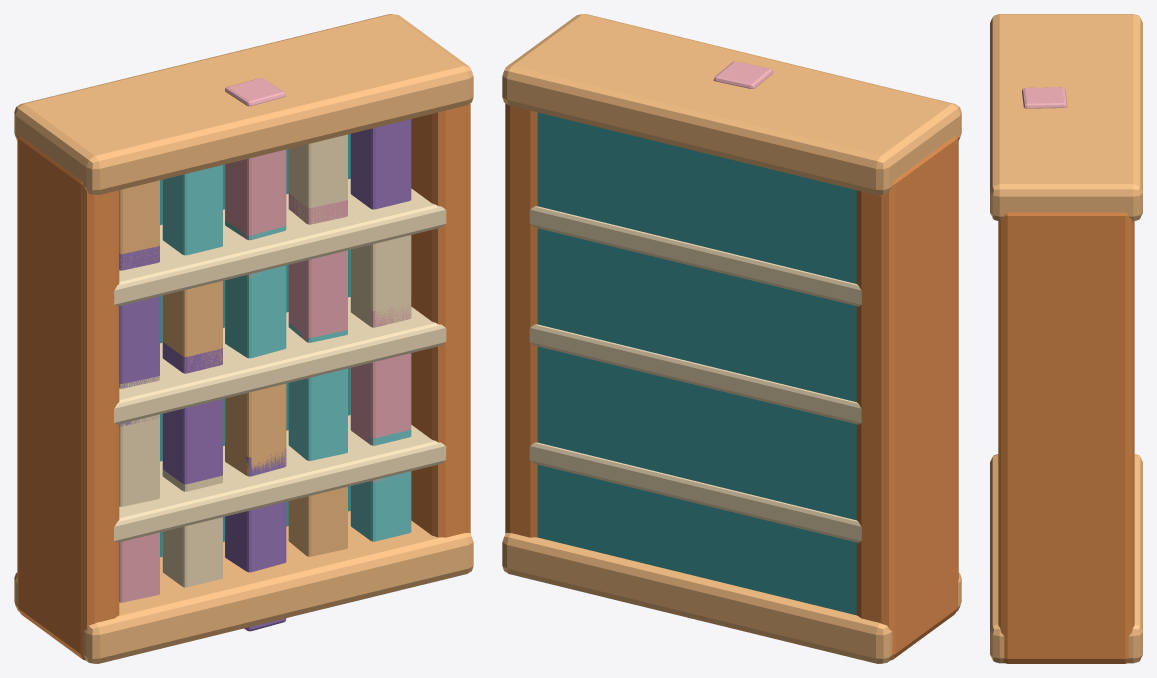
Rendered from TallBookshelf.fbx.
3 views of the same model, side by side, from view 1: azimuth 30°, elevation 25°; view 2: azimuth 150°, elevation 25°; view 3: azimuth 270°, elevation 25° (orthographic). The views are drawn at different scales.
Visible parts, largest first — view 1: Shelf_Left, Shelf_Top, Shelf_Right, Shelf_Base, Shelf_Board.001, Shelf_Board.002, Shelf_Board, Book.017, Book.013, Book.006, Book.012, Book.009 (+16 smaller); view 2: Shelf_Back, Shelf_Left, Shelf_Top, Shelf_Base, Shelf_Right, Shelf_Board, Shelf_Board.001, Shelf_Board.002, Book.017; view 3: Shelf_Right, Shelf_Top, Shelf_Base, Book.017.
Part boxes in pixels (x1,y1,x2,y2): Shelf_Left: (17,135,119,660); Shelf_Top: (14,14,473,195); Shelf_Right: (411,103,470,537); Shelf_Base: (14,511,473,663); Shelf_Board.001: (114,297,446,424); Shelf_Board.002: (114,179,446,306); Shelf_Board: (114,415,446,542); Book.017: (225,78,286,277); Book.013: (288,193,347,380); Book.006: (162,342,222,491); Book.012: (225,220,286,358); Book.009: (350,297,411,483); Shelf_Back: (537,112,856,615); Shelf_Left: (856,135,958,660); Shelf_Top: (502,14,961,195); Shelf_Base: (502,532,961,663); Shelf_Right: (505,103,537,537); Shelf_Board: (529,442,861,542); Shelf_Board.001: (529,324,861,424); Shelf_Board.002: (529,206,861,306); Book.017: (713,61,773,88); Shelf_Right: (998,212,1134,663); Shelf_Top: (990,14,1142,221); Shelf_Base: (990,454,1142,663); Book.017: (1022,87,1067,108).
Size of the model in its own units: 155 by 202 by 56.
